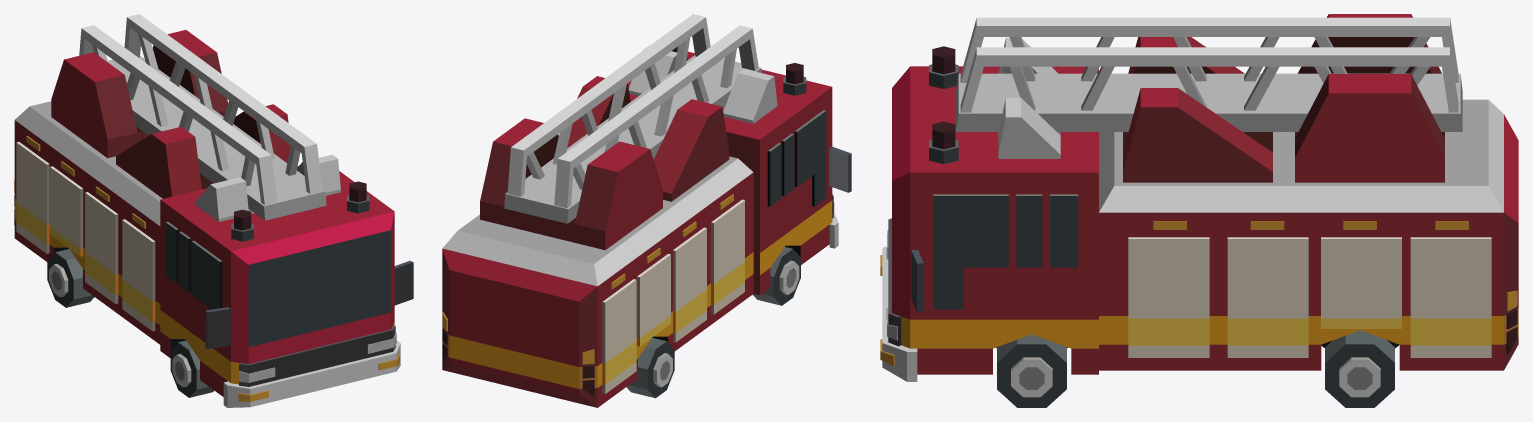
Rendered from TB_CITY_Car_FireEngine.FBX.
3 views of the same model, side by side, from view 1: azimuth 30°, elevation 25°; view 2: azimuth 150°, elevation 25°; view 3: azimuth 270°, elevation 25° (orthographic). The views are drawn at different scales.
Visible parts, largest first — view 1: TB_CITY_Car_FireEngine, TB_Car_FireEngine_Wheel003, TB_Car_FireEngine_Wheel004; view 2: TB_CITY_Car_FireEngine, TB_Car_FireEngine_Wheel003, TB_Car_FireEngine_Wheel004; view 3: TB_CITY_Car_FireEngine, TB_Car_FireEngine_Wheel002, TB_Car_FireEngine_Wheel001.
Part boxes in pixels (box(x1,y1,x2,y2)): TB_CITY_Car_FireEngine: box(14, 14, 413, 407); TB_Car_FireEngine_Wheel003: box(47, 249, 94, 307); TB_Car_FireEngine_Wheel004: box(170, 340, 214, 397); TB_CITY_Car_FireEngine: box(442, 14, 851, 407); TB_Car_FireEngine_Wheel003: box(626, 337, 674, 398); TB_Car_FireEngine_Wheel004: box(752, 247, 800, 305); TB_CITY_Car_FireEngine: box(880, 14, 1518, 381); TB_Car_FireEngine_Wheel002: box(1325, 330, 1394, 407); TB_Car_FireEngine_Wheel001: box(997, 334, 1066, 407).
Bounding box in the file's own units: 5.22 × 5.75 × 10.5.
